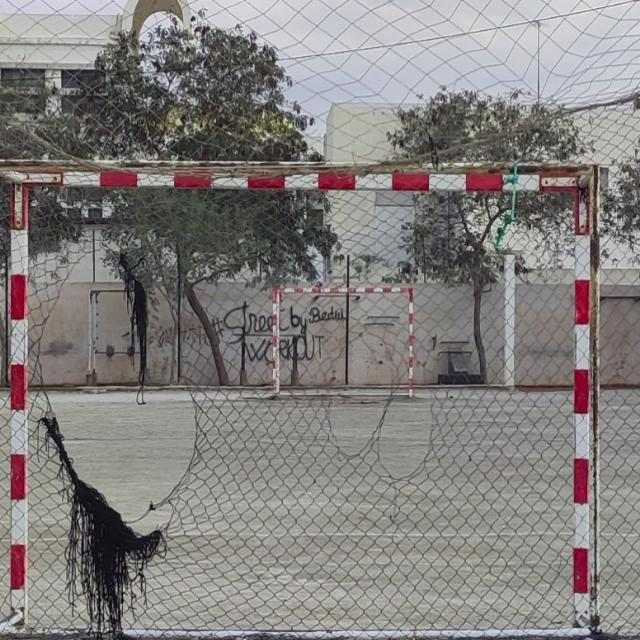fence line: (36, 246, 217, 534), (312, 318, 451, 490)
